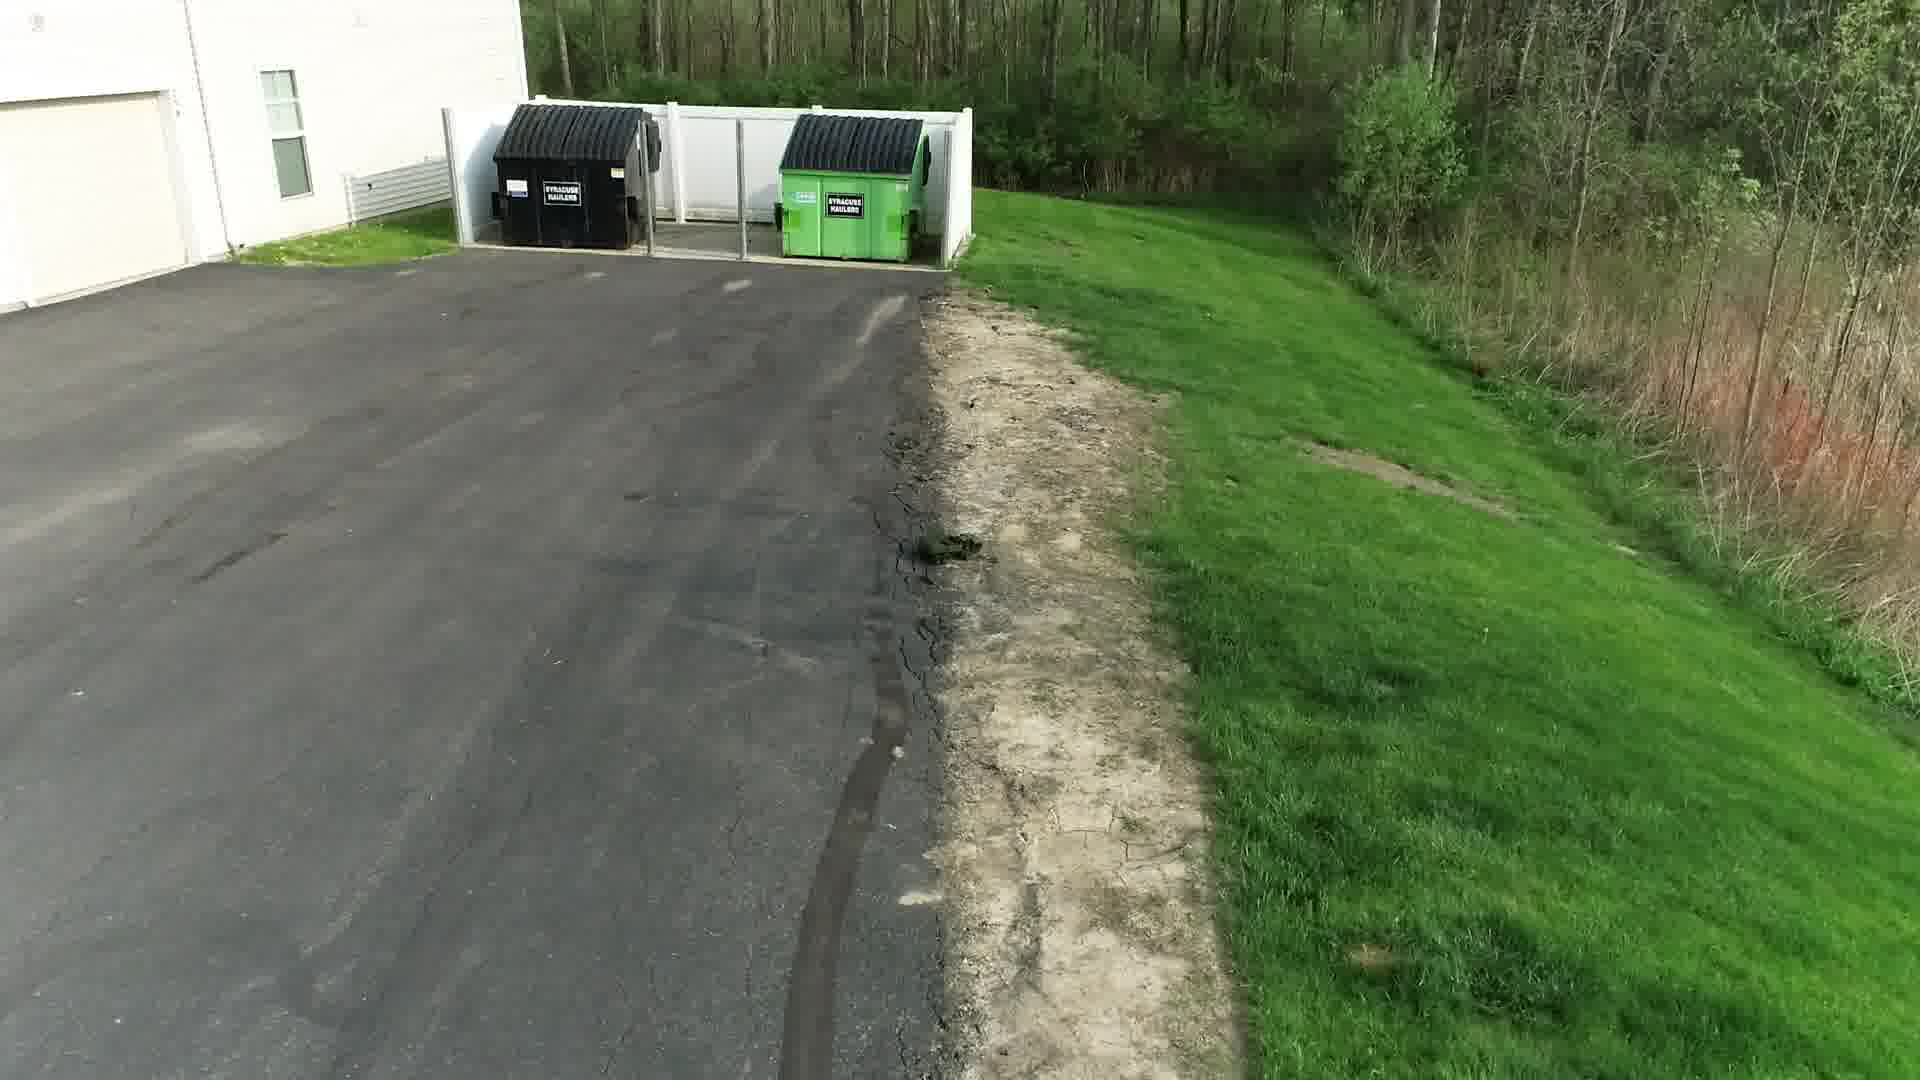transporter9: (913, 530, 984, 566)
